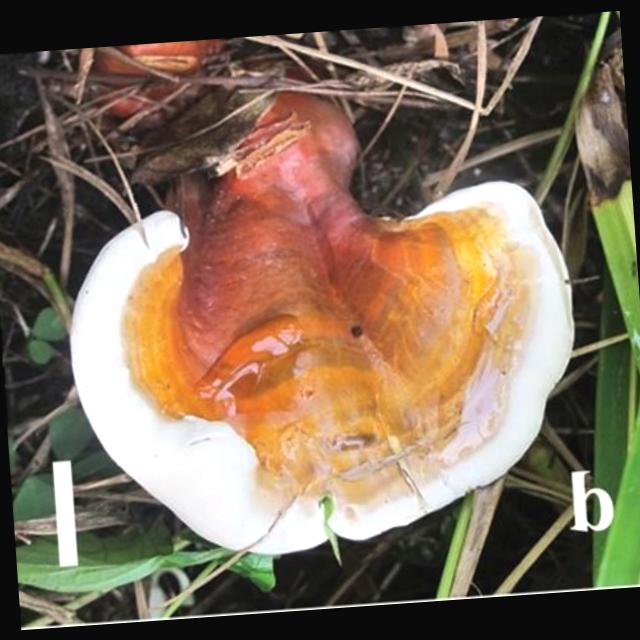ganoderma: (55, 152, 594, 573)
